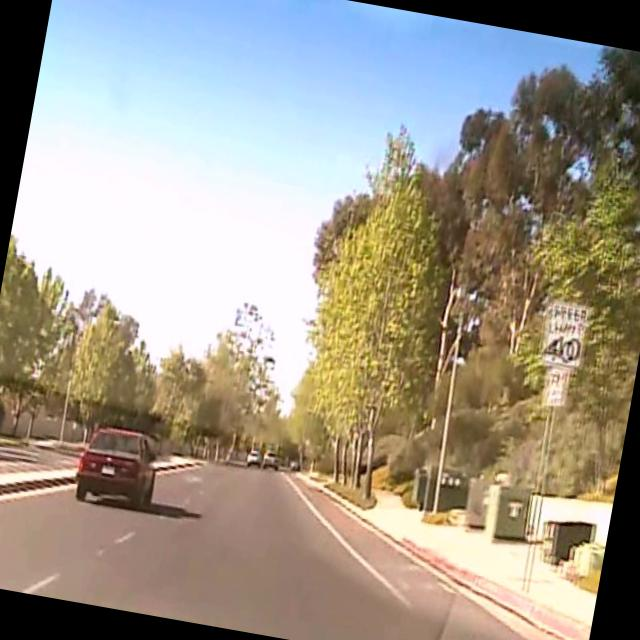40 MPH: (536, 300, 594, 374)
